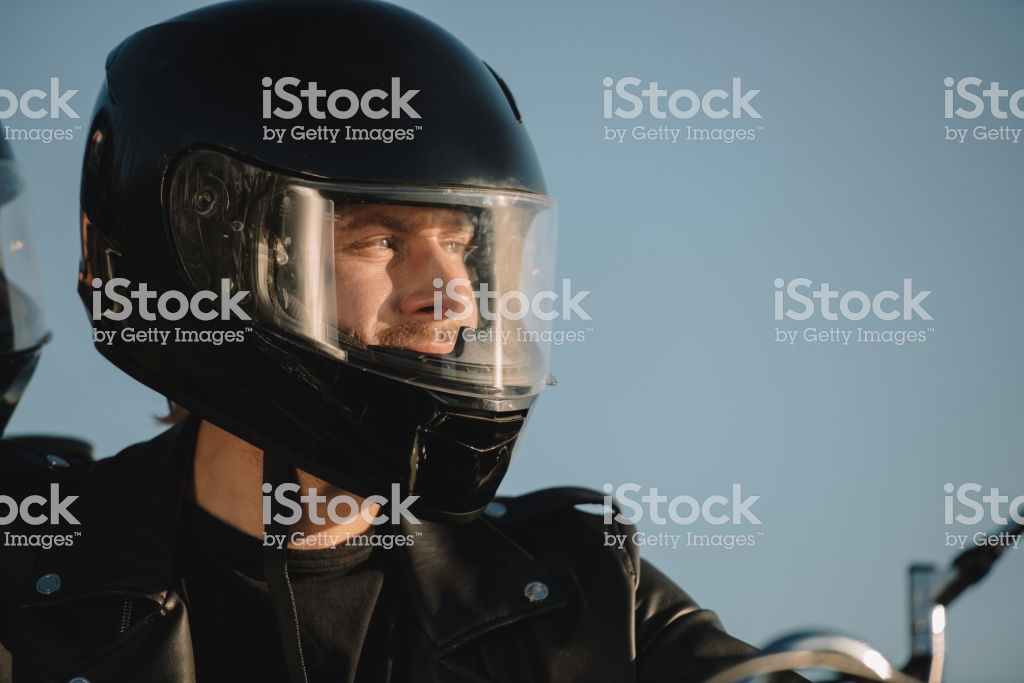helmet: (95, 13, 553, 481)
